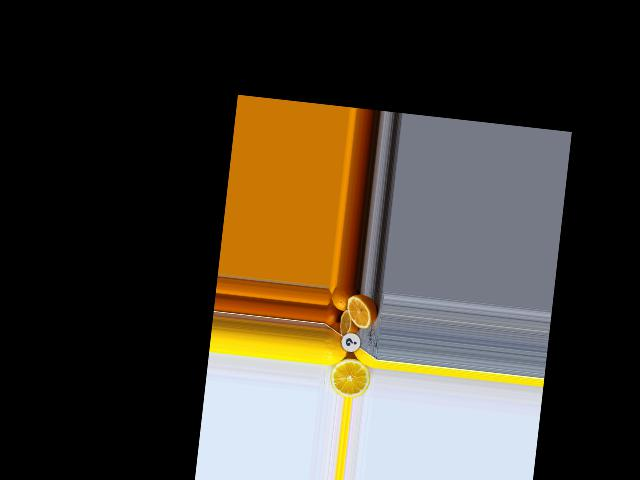lemon: (320, 327, 351, 369)
